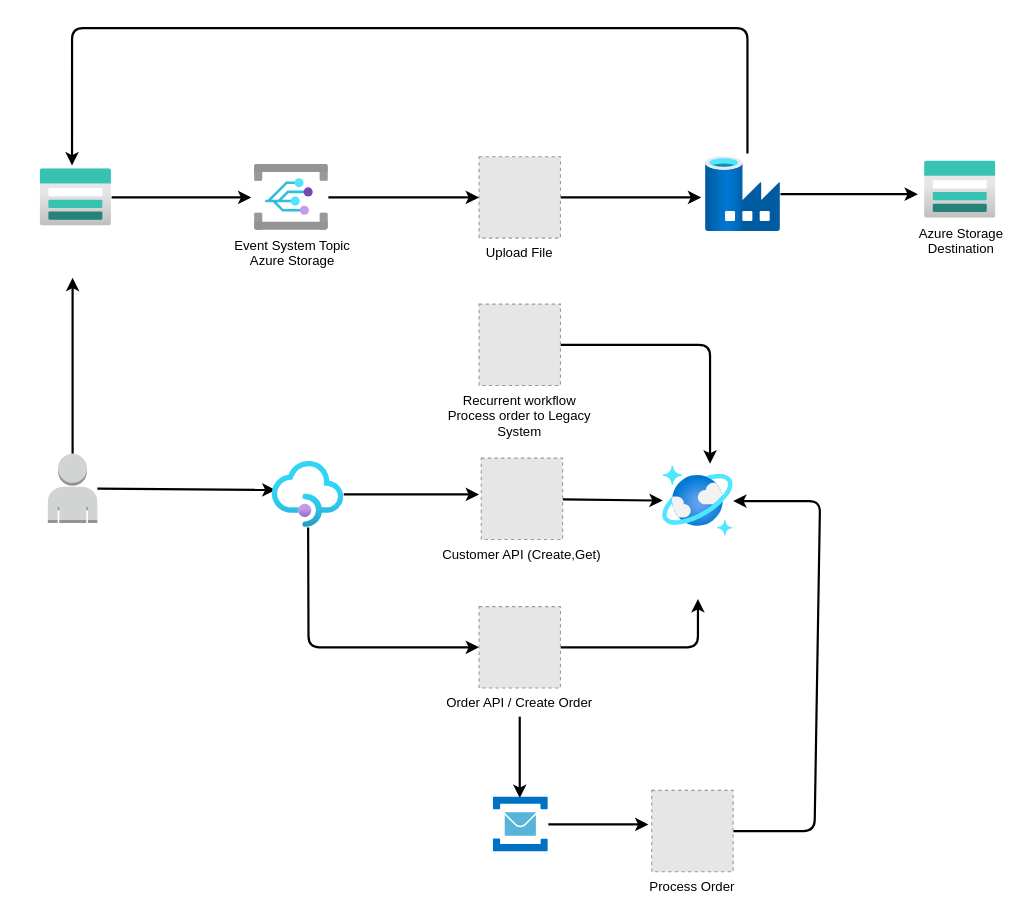
Image size: 1022x913. Some labels were removed from this diagram. Grey dashed boxes stand in for pictures. The shapes that lost their labels are listed below. From the top down, each one's centre as x and y in pixels, then its label:
At pixel 75 197: "Azure Storage Large File Transfert".
At pixel 72 488: "User".
At pixel 697 500: "Azure Cosmos DB".
At pixel 520 823: "Azure Service Bus Order Queue".
